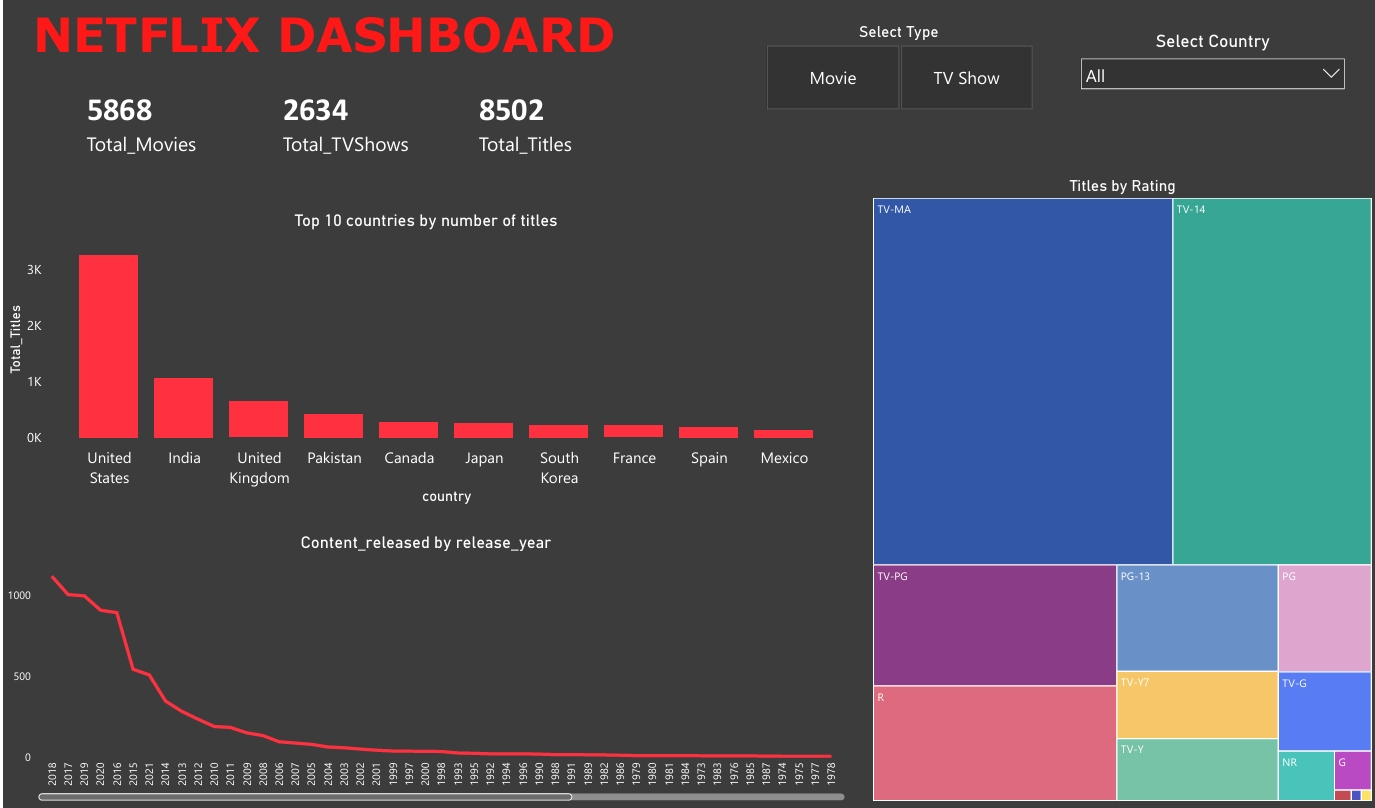

What the dashboard file says about the page in this screenshot:
{"tool":"powerbi","page":{"name":"Page 1","canvas":[1700,1000],"ordinal":0},"visuals":[{"type":"multiRowCard","fields":{"Values":["netflix1.Movies_Count","netflix1.TVShow_Count","netflix1.Total_Titles"]},"box":[98.4,106,738.3,124.9],"z":1000},{"type":"textbox","box":[28.4,0,738.3,119.3],"z":2000},{"type":"lineChart","fields":{"Category":["netflix1.release_year"],"Y":["netflix1.Total_Titles"]},"box":[0,658.8,1046.9,337],"z":3000},{"type":"clusteredColumnChart","title":"Top 10 countries by number of titles","fields":{"Category":["netflix1.country"],"Y":["netflix1.Total_Titles"]},"box":[0,261.2,1046.9,367.3],"z":4000},{"type":"treemap","title":"Titles by Rating","fields":{"Group":["netflix1.rating"],"Values":["netflix1.Total_Titles"]},"box":[1073.4,217.7,626.6,778.1],"z":5000},{"type":"slicer","title":"Select Country","fields":{"Values":["netflix1.country"]},"box":[1325.2,37.9,346.4,104.1],"z":6000},{"type":"slicer","title":"Select Type","fields":{"Values":["netflix1.type"]},"box":[920,26.5,378.6,115.5],"z":7000}]}

Visuals, with their boxes in screenshot pixels (x1, y1, x2, y2), scaled from the page's 1700x1000 canvas onto the 1375x808 screenshot:
multiRowCard - netflix1.Movies_Count x netflix1.TVShow_Count: (80, 86, 677, 187)
textbox: (23, 0, 620, 96)
lineChart - netflix1.release_year x netflix1.Total_Titles: (0, 532, 847, 805)
"Top 10 countries by number of titles" clusteredColumnChart: (0, 211, 847, 508)
"Titles by Rating" treemap: (868, 176, 1374, 805)
"Select Country" slicer: (1072, 31, 1352, 115)
"Select Type" slicer: (744, 21, 1050, 115)
